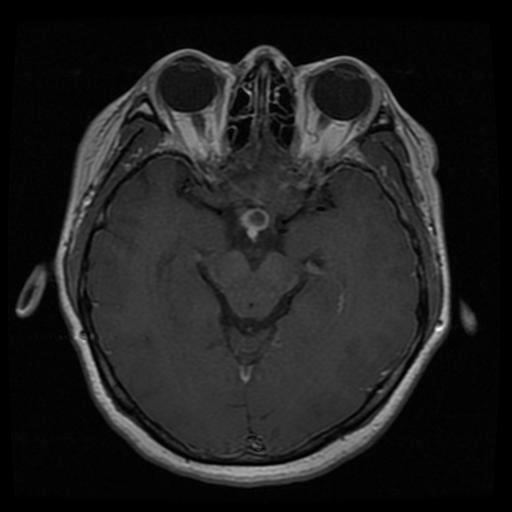Tumour-Pituitary: (235, 206, 269, 242)
